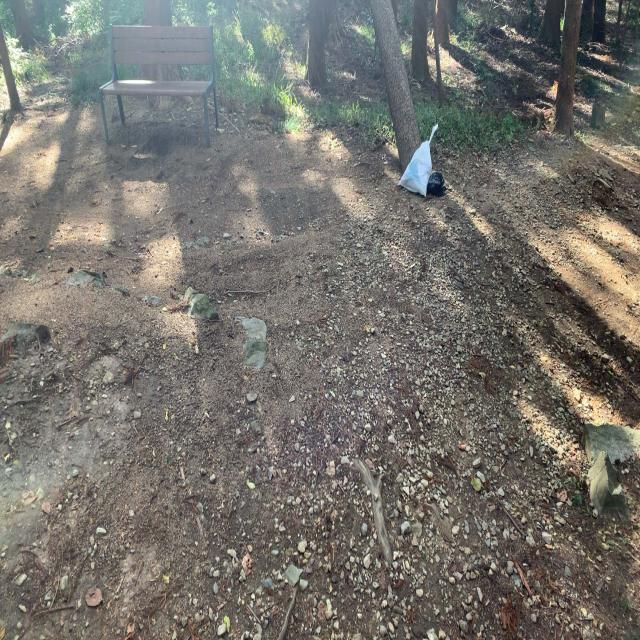garbage bag: (396, 121, 445, 200)
